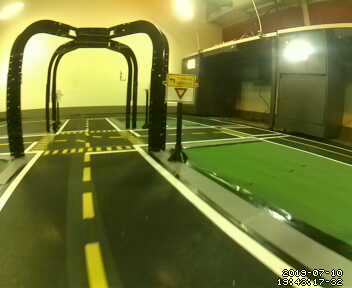Turn Yield: (165, 73, 198, 105)
